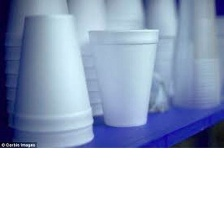paper_cup: (7, 10, 97, 148), (84, 23, 163, 132), (168, 0, 224, 115)
